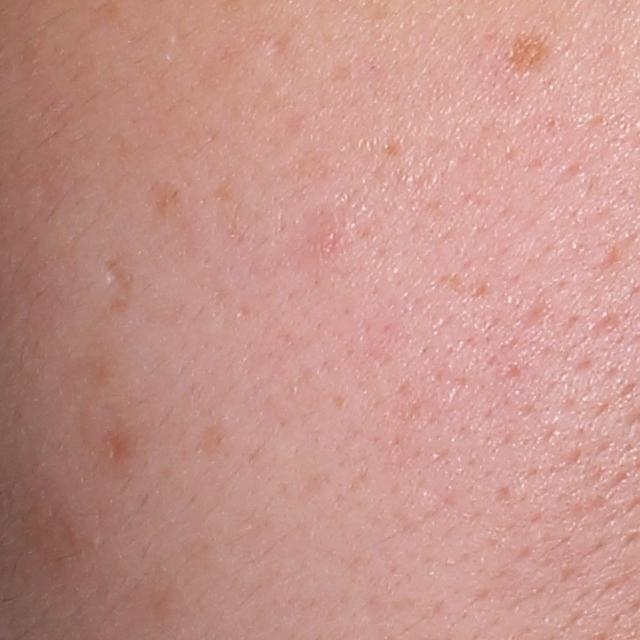melasma: (498, 25, 561, 86), (148, 181, 185, 221)
